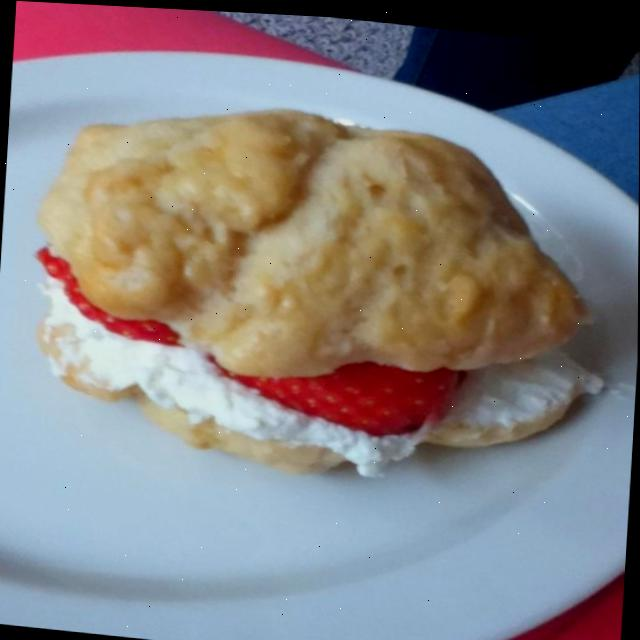面包点心: (0, 5, 633, 640)
